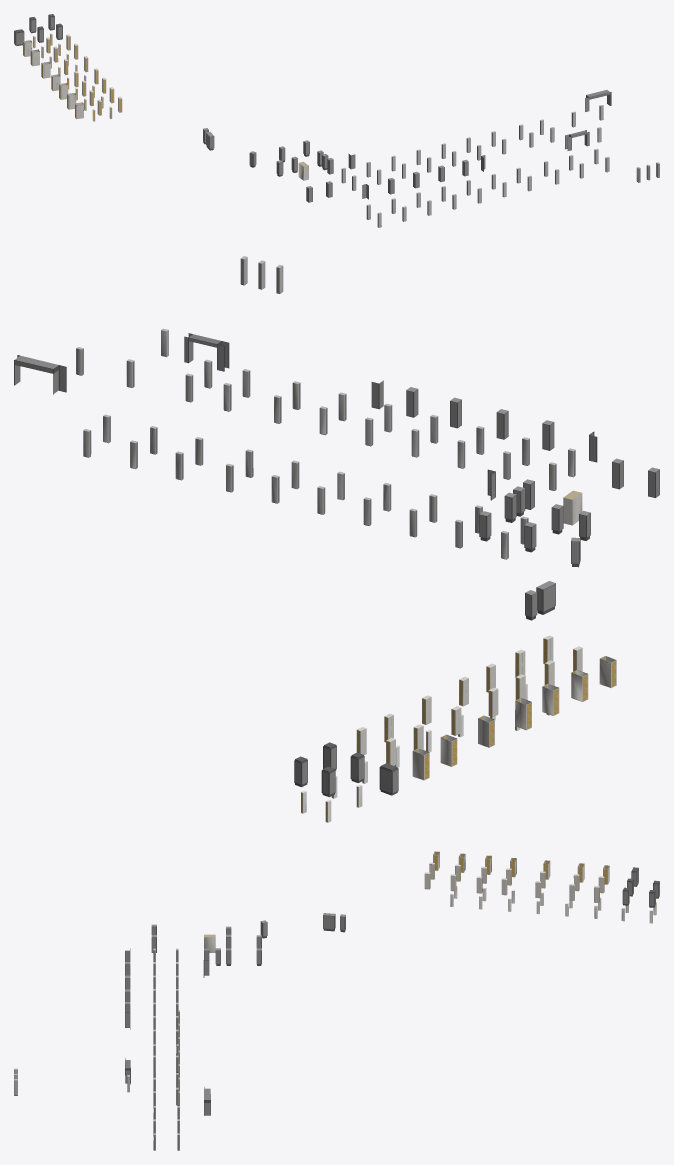
Rendered from dfzmPillarDraco-opt.glb.
3 renders of one model, top to bottom at view 1: azimuth 30°, elevation 25°; view 2: azimuth 150°, elevation 25°; view 3: azimuth 270°, elevation 25°, orthographic. The views are drawn at different scales.
Visible parts, largest first — view 1: line3-hall-pillar-007, line3-platform-pillar-border-003.001, line3-hall-pillar-005, line3-platform-pillar-center-003.001, line1-platform-pillar-border-001; view 2: line3-hall-pillar-007, line3-platform-pillar-border-003.001, line3-hall-pillar-005, line3-platform-pillar-center-003.001, line1-platform-pillar-border-001; view 3: line3-hall-pillar-007, line3-hall-pillar-005, line3-platform-pillar-border-003.001, line3-platform-pillar-center-003.001, line1-platform-pillar-border-001.
Part boxes in pixels (x1,y1,x2,y2): line3-hall-pillar-007: [14, 14, 611, 202]; line3-platform-pillar-border-003.001: [342, 105, 659, 227]; line3-hall-pillar-005: [23, 34, 308, 180]; line3-platform-pillar-center-003.001: [341, 106, 659, 227]; line1-platform-pillar-border-001: [33, 33, 112, 121]; line3-hall-pillar-007: [14, 333, 659, 797]; line3-platform-pillar-border-003.001: [76, 256, 575, 559]; line3-hall-pillar-005: [356, 490, 616, 780]; line3-platform-pillar-center-003.001: [82, 259, 575, 558]; line1-platform-pillar-border-001: [301, 683, 549, 822]; line3-hall-pillar-007: [125, 867, 659, 1115]; line3-hall-pillar-005: [204, 851, 609, 952]; line3-platform-pillar-border-003.001: [14, 948, 179, 1150]; line3-platform-pillar-center-003.001: [153, 950, 179, 1150]; line1-platform-pillar-border-001: [450, 885, 656, 923].
Size of the model in its own units: 159 by 25.68 by 187.
7 materials, 4 textured.
